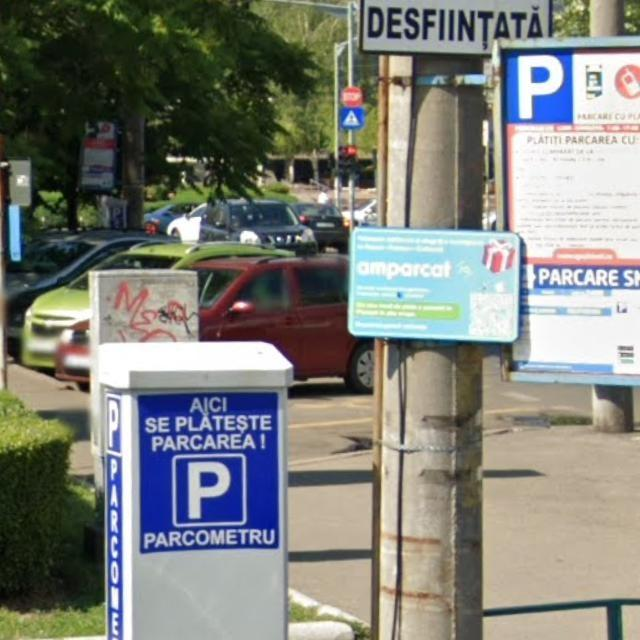info_crosswalk: (341, 108, 364, 130)
prio_stop: (342, 88, 363, 108)
